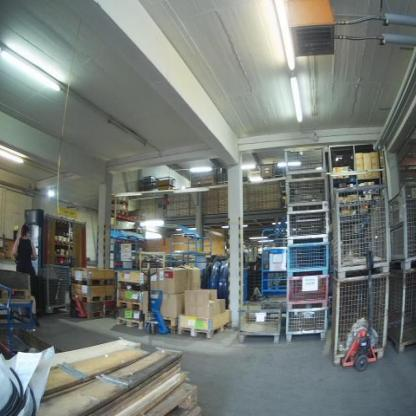pallet: (144, 382, 199, 416), (175, 316, 232, 343), (115, 314, 146, 332), (72, 276, 116, 288), (116, 279, 146, 295), (86, 309, 115, 322), (116, 300, 144, 313), (79, 294, 115, 304)
pallet_truck: (337, 245, 386, 369), (134, 257, 169, 334), (66, 281, 86, 322)
stillage: (330, 274, 395, 369), (332, 182, 392, 280), (389, 268, 416, 359), (35, 261, 75, 320), (390, 182, 414, 267), (239, 299, 280, 343), (284, 306, 330, 344), (285, 141, 328, 178), (286, 208, 332, 242), (285, 242, 331, 275), (285, 176, 332, 208), (286, 275, 331, 307)
